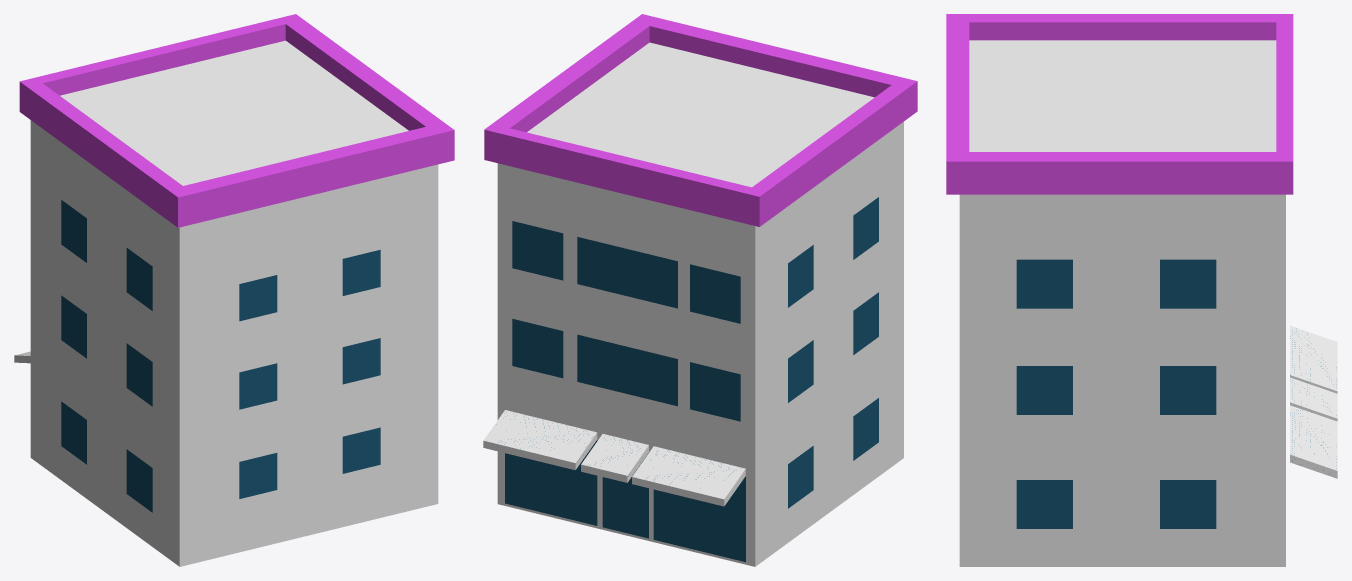
File: building_small_purple.glb
3 renders of one model, left to right at view 1: azimuth 30°, elevation 25°; view 2: azimuth 150°, elevation 25°; view 3: azimuth 270°, elevation 25°, orthographic. The views are drawn at different scales.
Parts seen in each view (by area): view 1: building_small; view 2: building_small; view 3: building_small.
Boxes of the visible parts, x1,y1,x2,y2 form: building_small: [14, 14, 454, 566]; building_small: [483, 14, 917, 566]; building_small: [946, 14, 1337, 566].
Size of the model in its own units: 11.48 by 14.91 by 12.87.
1 material, 1 textured.
